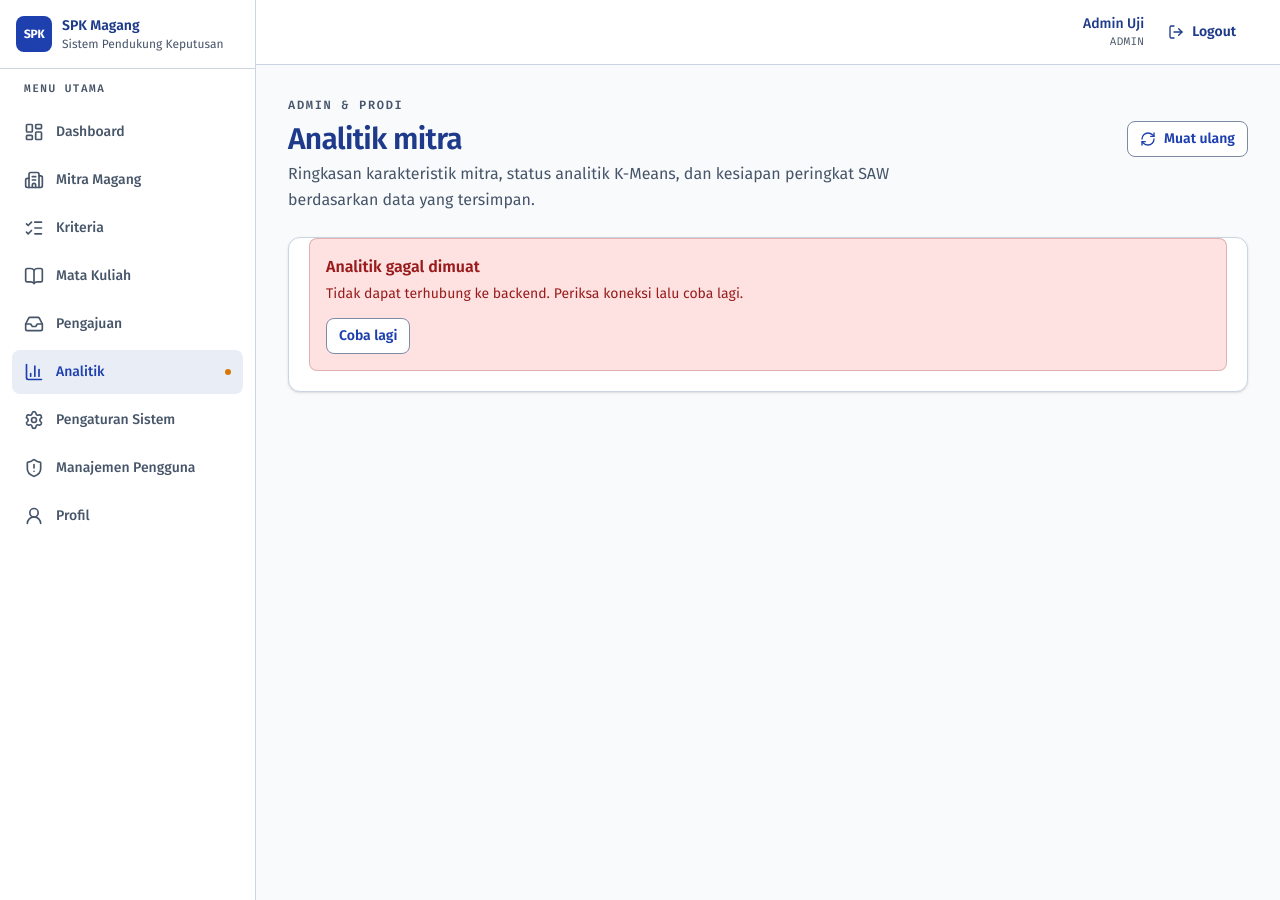
Test: AdminAnalyticsPage › menampilkan error state dan dapat mencoba ulang
expect the text "Analitik gagal dimuat" is shown: met, box [326,257,480,276]
expect the text "Tidak dapat terhubung ke backend. Periksa koneksi lalu coba lagi." is shown: met, box [326,285,743,302]
Click the button "Coba lagi" at [368, 336], box [326,318,410,354]
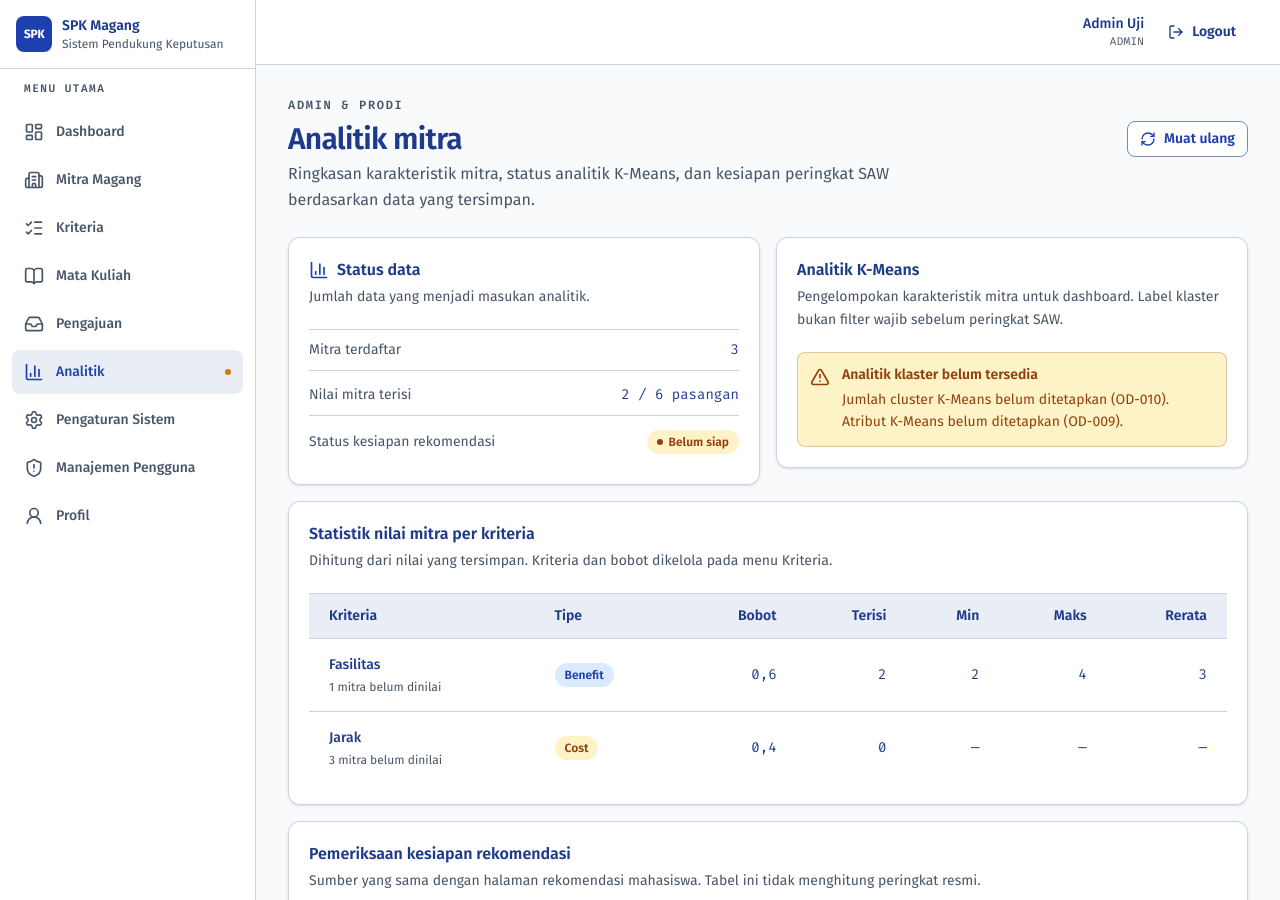
expect the text "Fasilitas" is shown: met, box [329,656,380,672]
